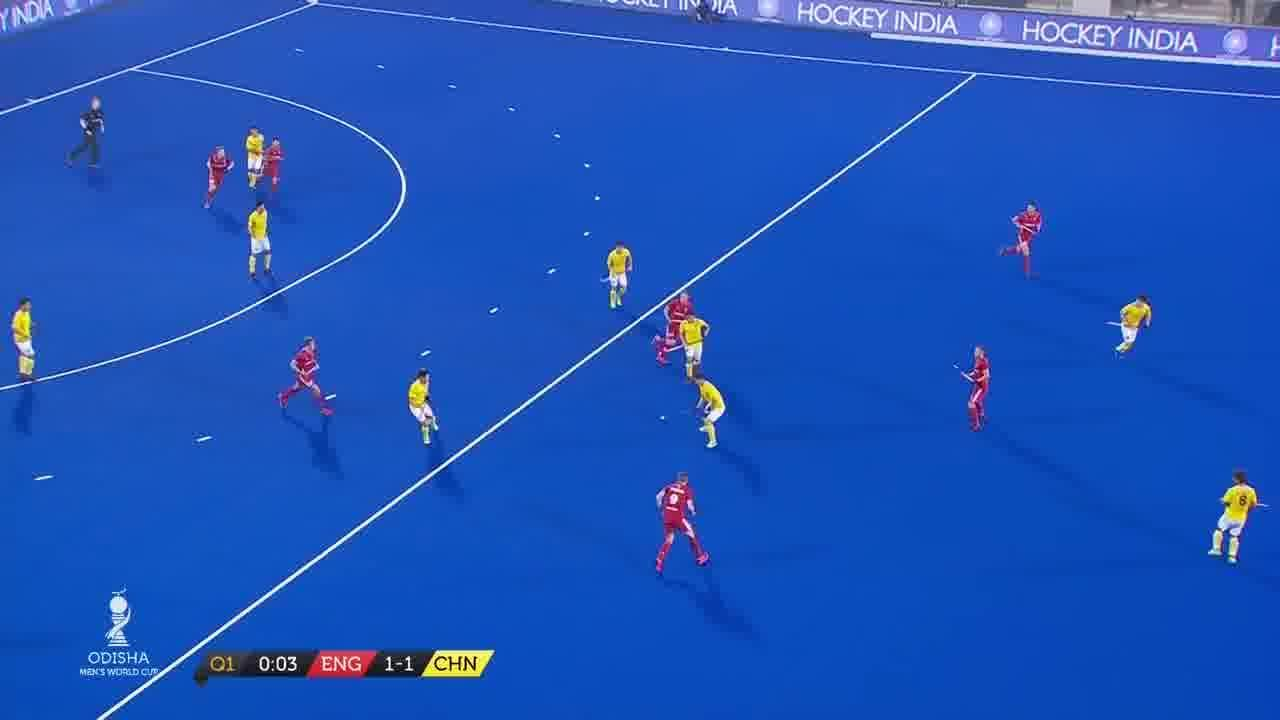ball: (655, 412, 674, 422)
